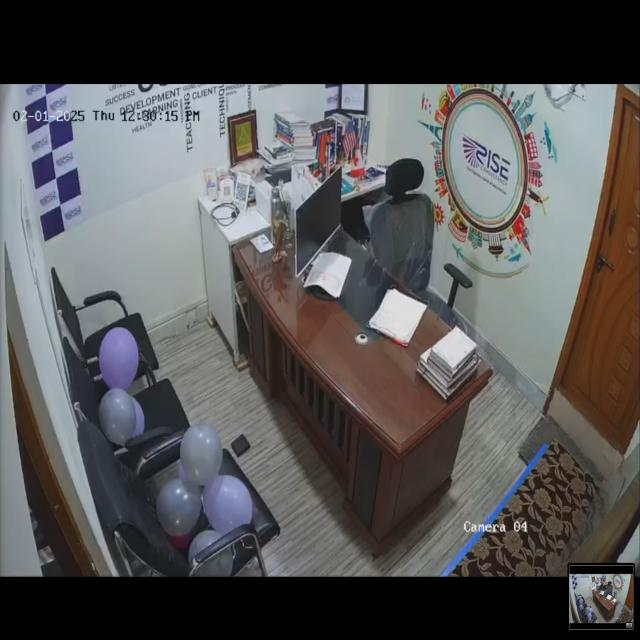wallet: (230, 434, 253, 457)
